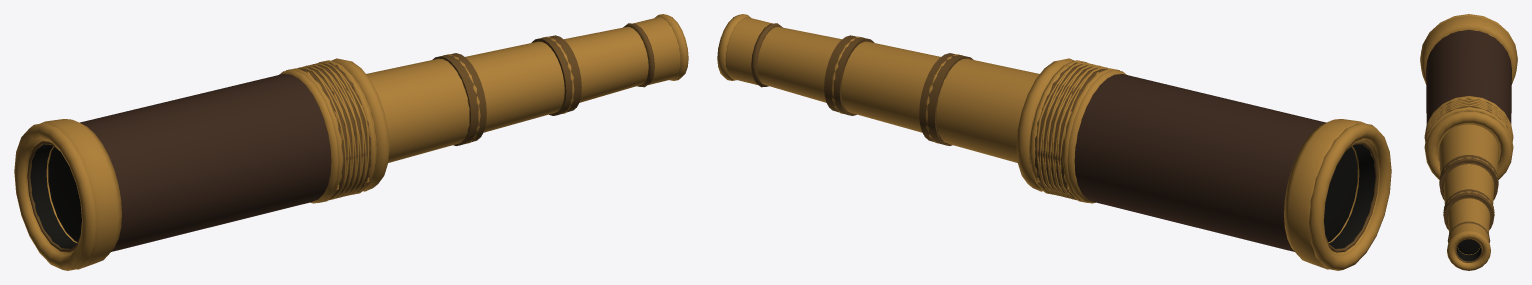
3 renders of one model, left to right at view 1: azimuth 30°, elevation 25°; view 2: azimuth 150°, elevation 25°; view 3: azimuth 270°, elevation 25°, orthographic. The views are drawn at different scales.
Parts seen in each view (by area): view 1: chapter-1; view 2: chapter-1; view 3: chapter-1.
Part boxes in pixels (bbox=[...]): chapter-1: bbox=[14, 14, 688, 270]; chapter-1: bbox=[717, 14, 1391, 270]; chapter-1: bbox=[1420, 14, 1517, 270].
Bounding box in the file's own units: 2 × 0.4209 × 0.4209.
